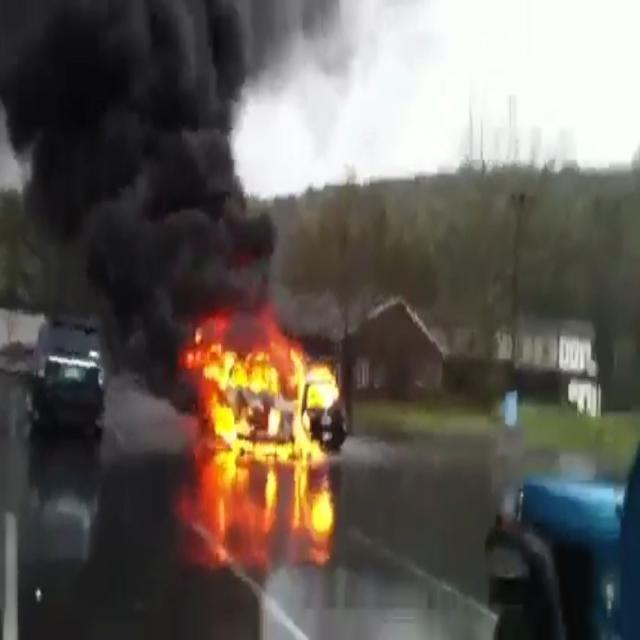fire: (187, 304, 291, 466), (294, 322, 344, 458)
